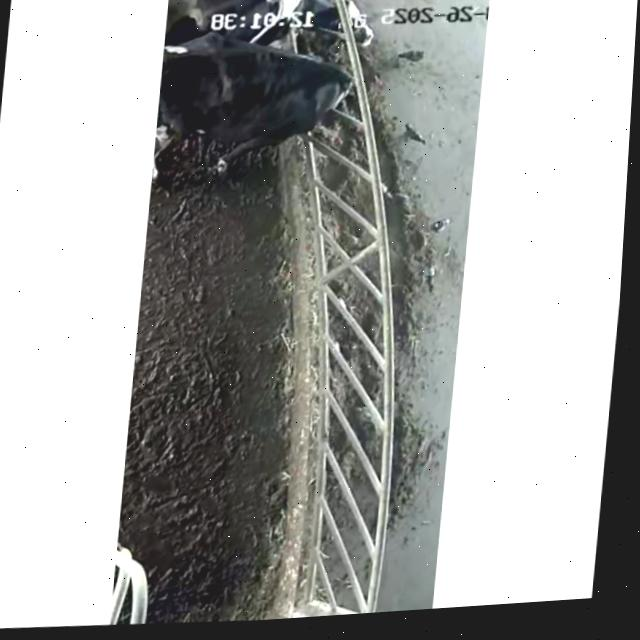eat: (221, 50, 391, 147), (195, 0, 396, 57)
